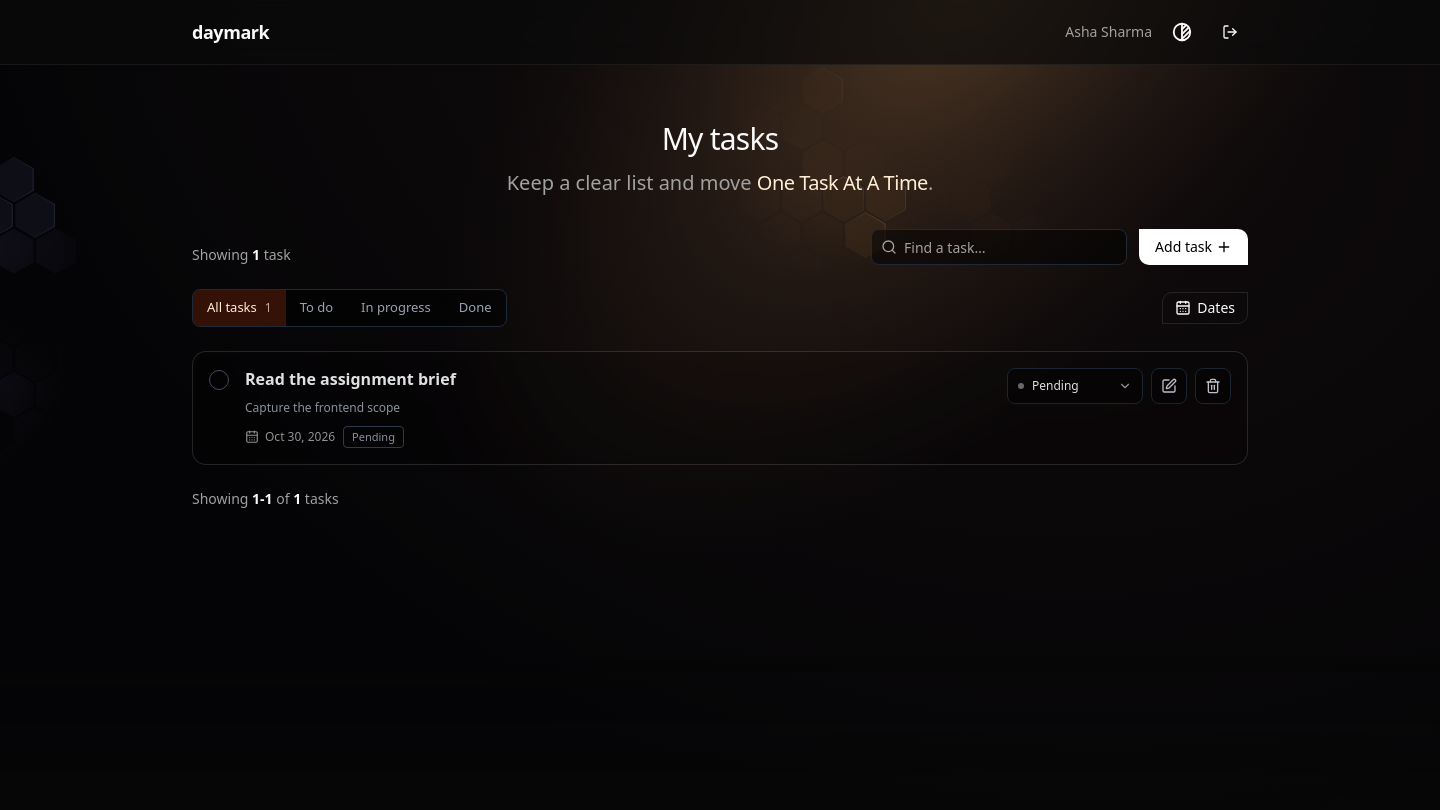
Test: task dashboard › saves edits to an existing task
Expected: the heading "Read the assignment brief" is shown, [245,368,456,390]
Click the button named "Edit Read the assignment brief" at [1169, 386], box [1151,368,1187,404]
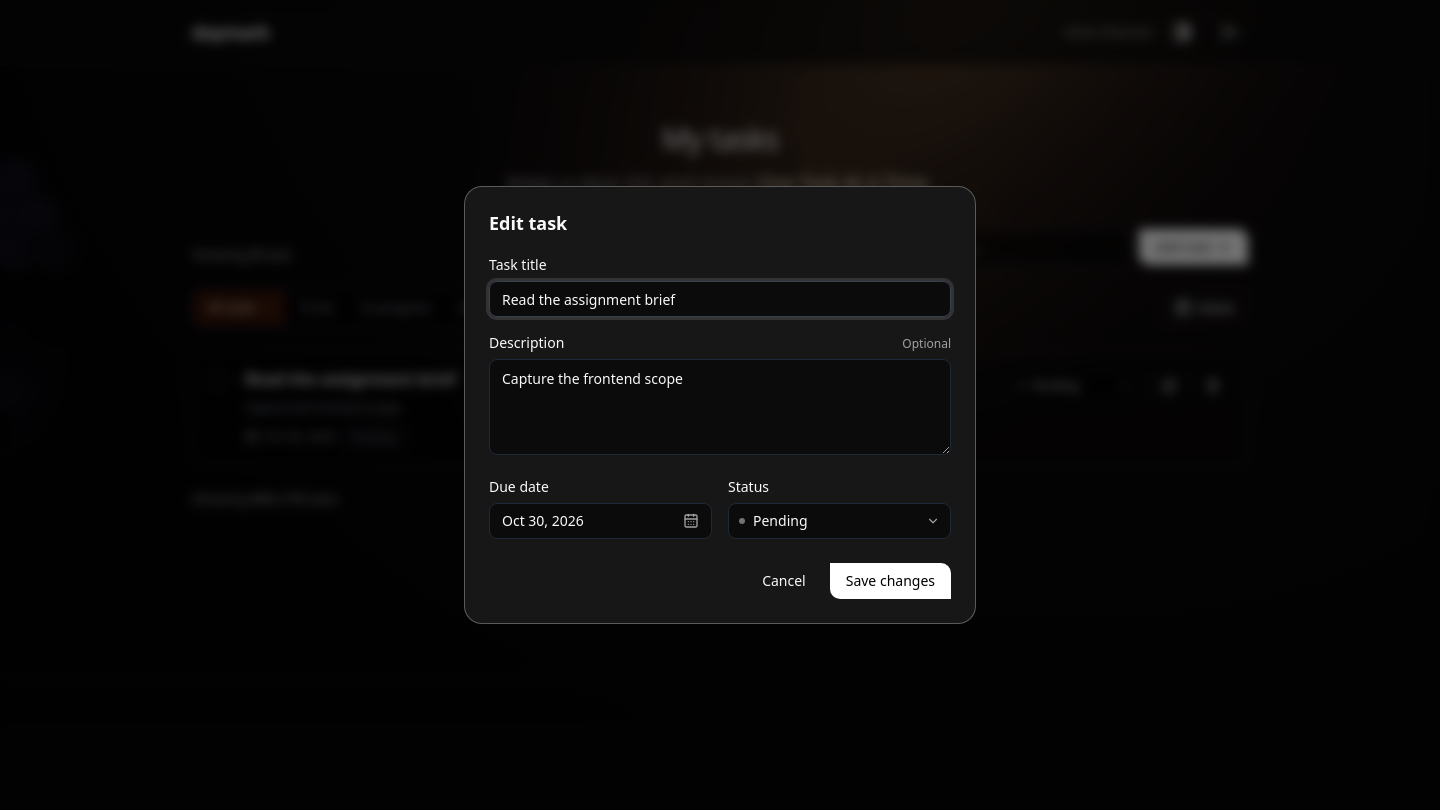
Replace the text in the field labelled "Task title" with "Review the assignment" at [720, 299], box [489,281,951,317]
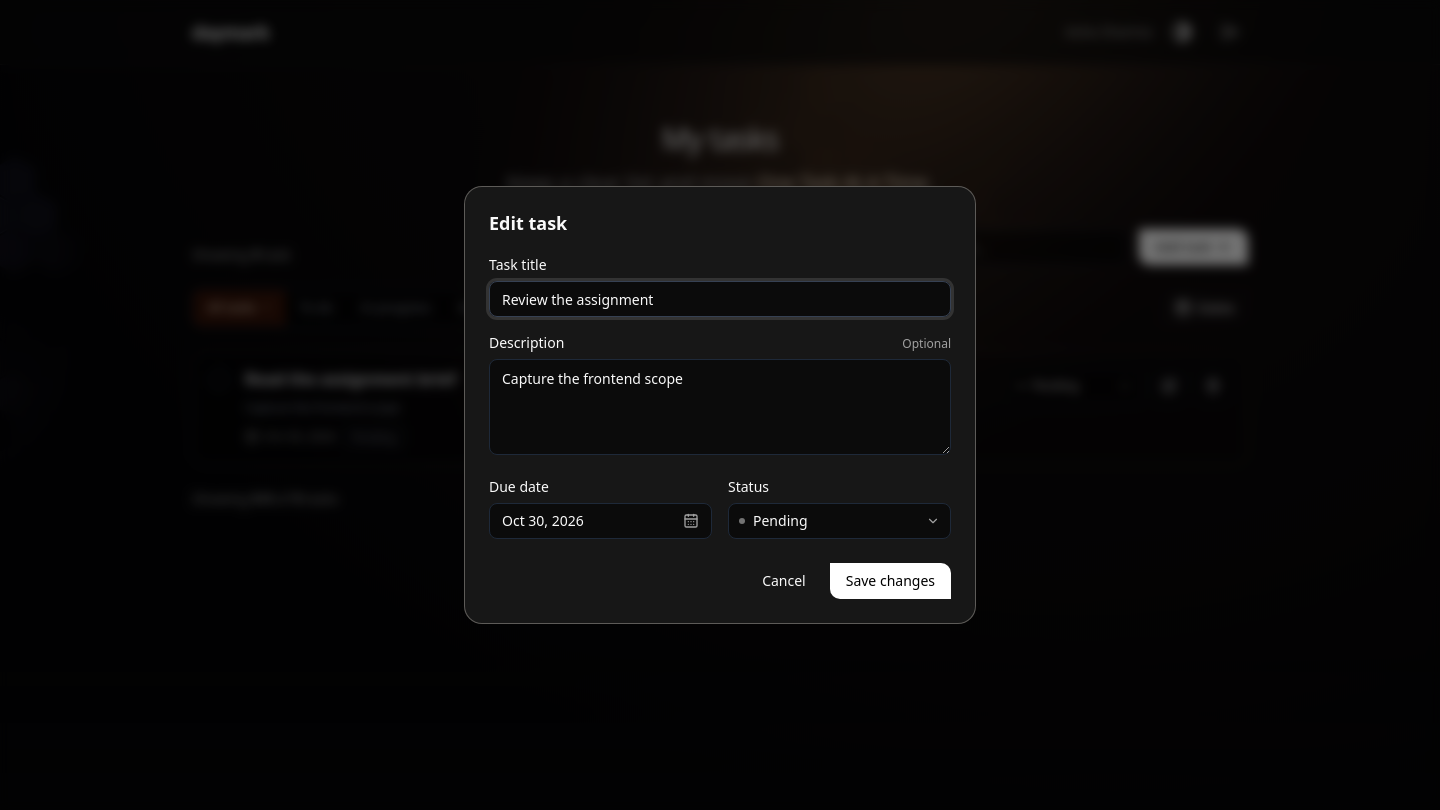
Click the button "Save changes" at [890, 581], box [830,563,951,599]
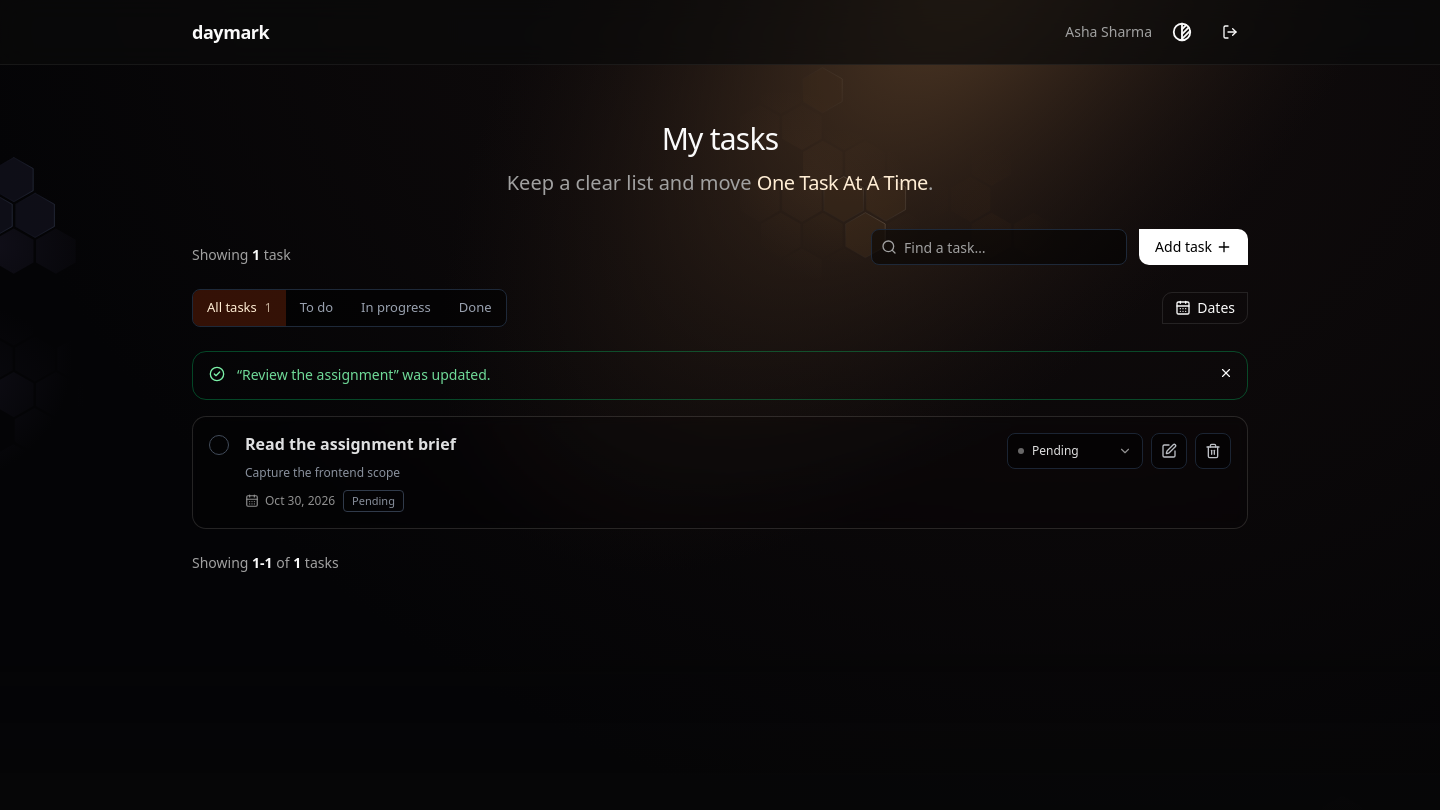
Result: the message shows "Review the assignment" at [237,365,491,384]
